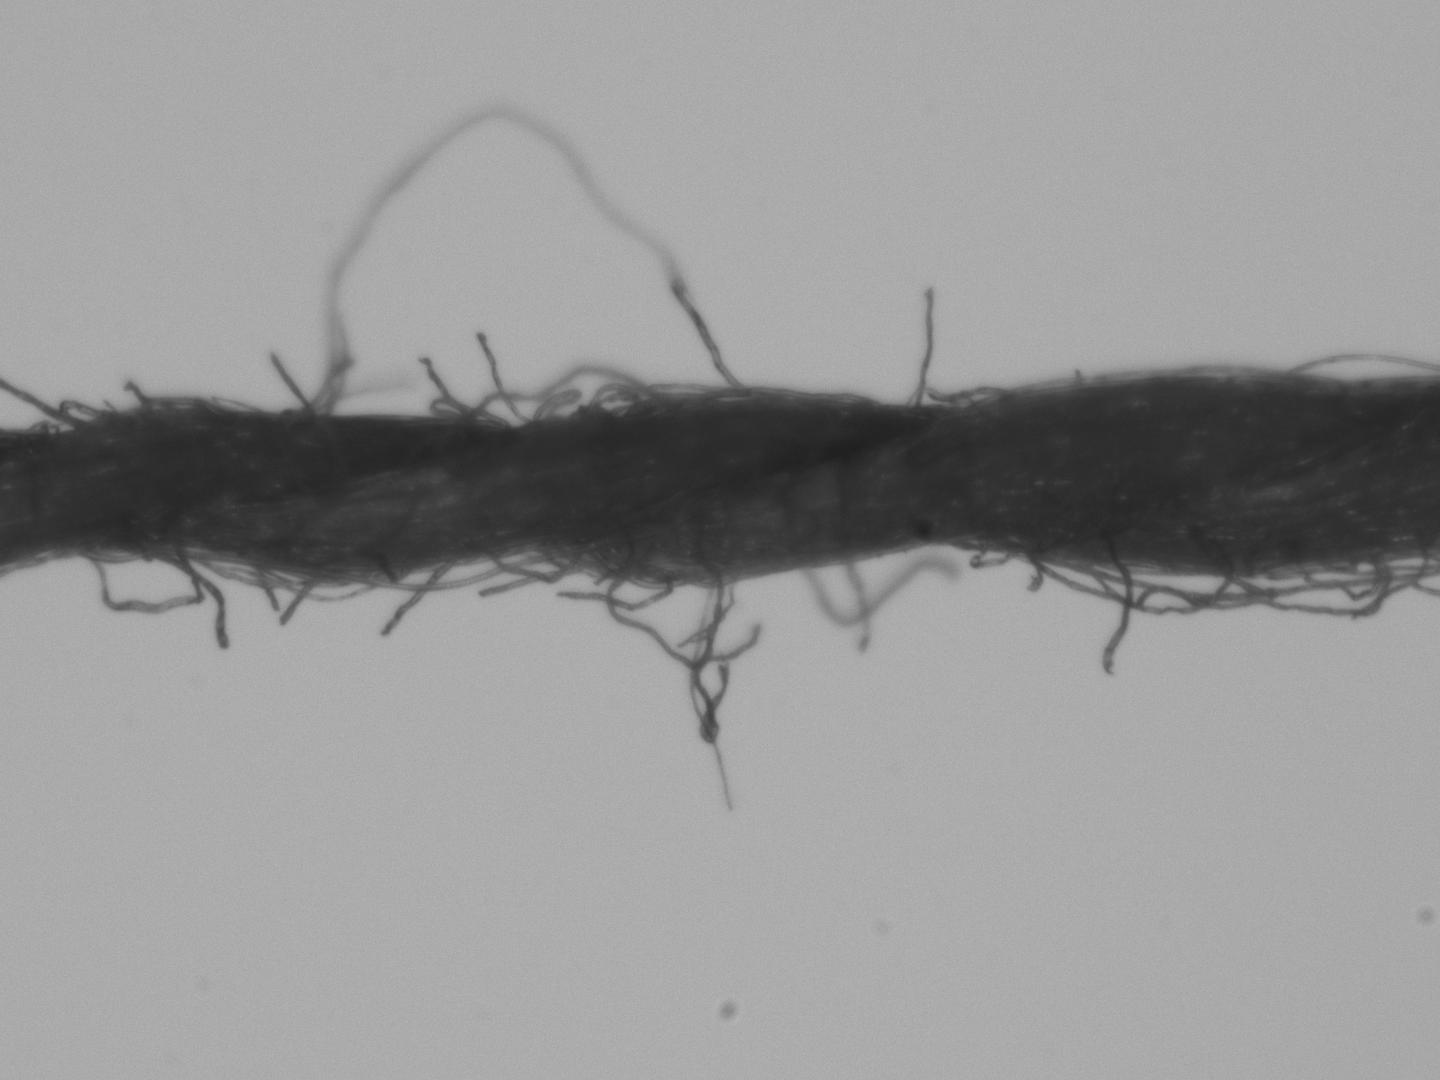loop_fiber: (302, 107, 765, 436), (955, 541, 1439, 619), (421, 364, 742, 432), (79, 538, 210, 618), (1279, 347, 1438, 386)
protruding_fiber: (127, 537, 232, 647), (797, 559, 965, 625), (420, 349, 497, 431), (475, 326, 531, 430), (1101, 539, 1138, 674), (835, 550, 873, 648), (905, 279, 934, 405), (268, 345, 307, 419)
